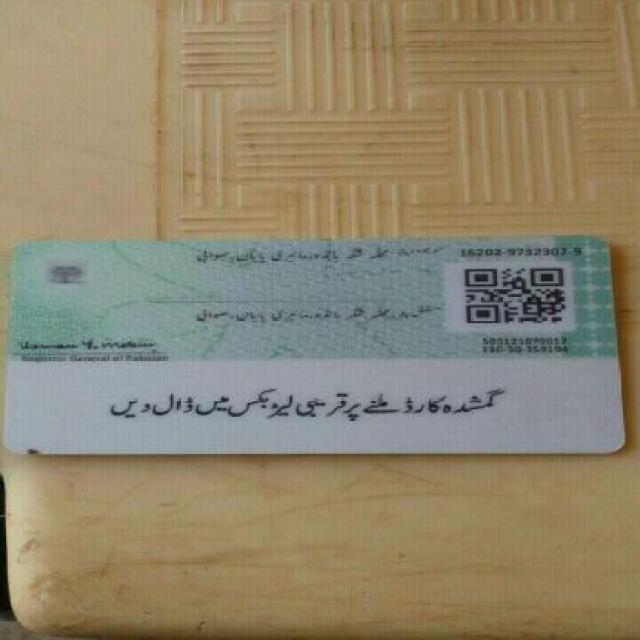Back: (0, 235, 623, 457)
